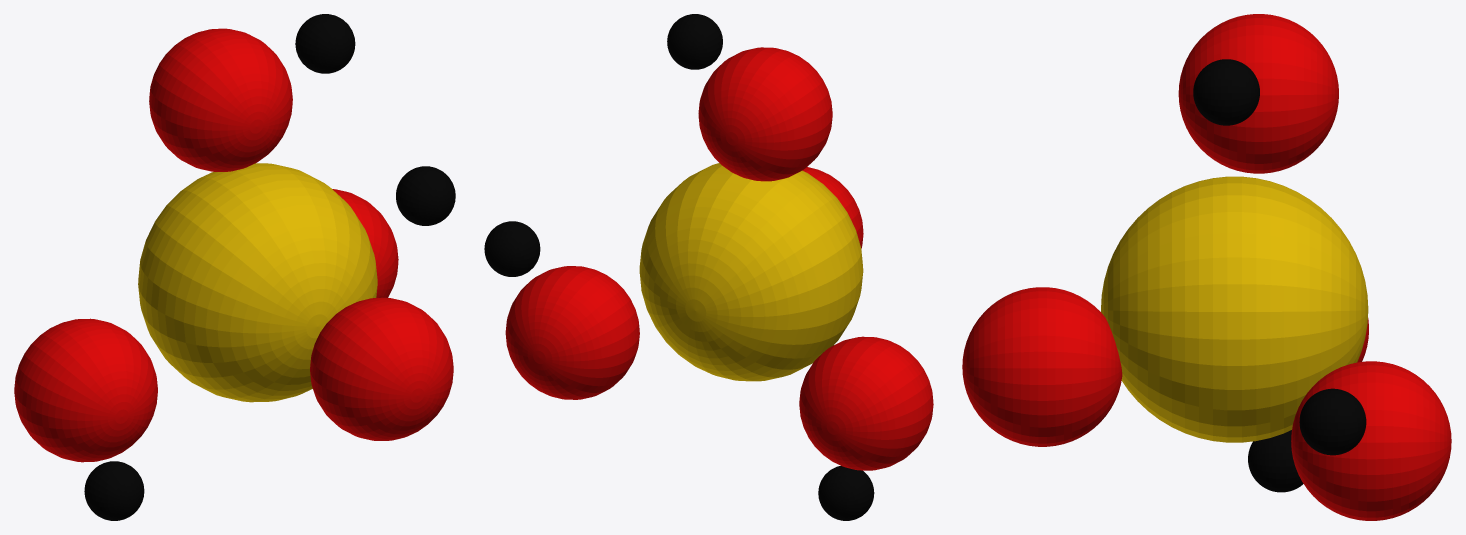
File: Phosphoric Acid.glb
The picture shows the model from 3 angles, left to right: view 1: azimuth 30°, elevation 25°; view 2: azimuth 150°, elevation 25°; view 3: azimuth 270°, elevation 25°; orthographic projection. The views are drawn at different scales.
Visible parts, largest first — view 1: world; view 2: world; view 3: world.
Part boxes in pixels (box(x1,y1,x2,y2)): world: box(14, 14, 455, 520); world: box(484, 14, 933, 520); world: box(962, 14, 1451, 520).
Size of the model in its own units: 4.31 by 4.36 by 3.66.
